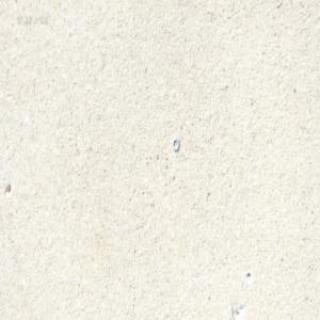Washertrack_idkeyframe: (161, 127, 186, 155)
